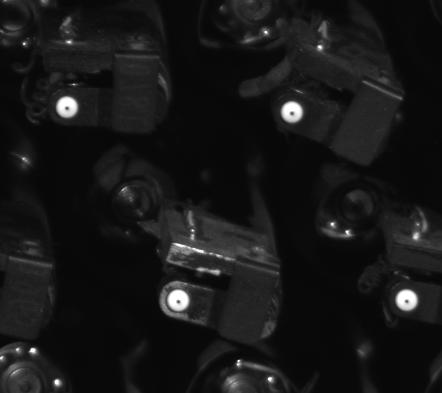fiber: (274, 94, 315, 132), (388, 281, 429, 319), (49, 90, 86, 123), (162, 283, 194, 319)
